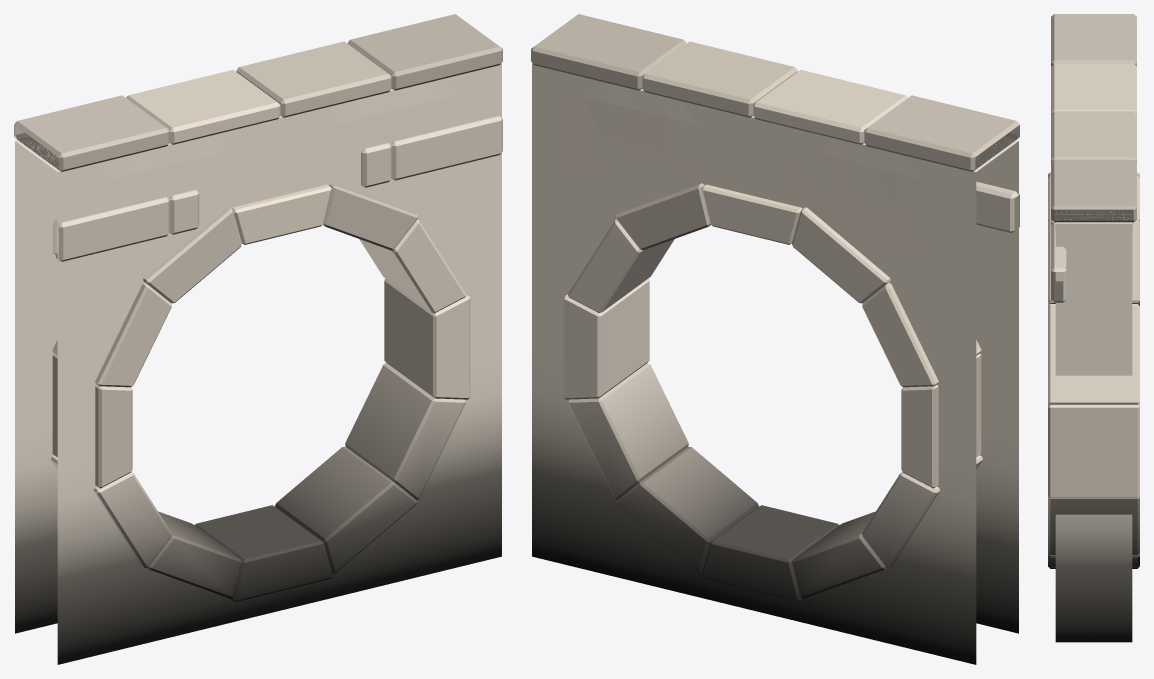
File: SM_VKI_Wall_Ancient_Vault_300_Full.fbx
3 renders of one model, left to right at view 1: azimuth 30°, elevation 25°; view 2: azimuth 150°, elevation 25°; view 3: azimuth 270°, elevation 25°, orthographic. The views are drawn at different scales.
Parts seen in each view (by area): view 1: SM_VKI_Wall_Ancient_Vault_300_Full.001; view 2: SM_VKI_Wall_Ancient_Vault_300_Full.001; view 3: SM_VKI_Wall_Ancient_Vault_300_Full.001.
Boxes of the visible parts, x1=… form: SM_VKI_Wall_Ancient_Vault_300_Full.001: x1=14, y1=14, x2=502, y2=664; SM_VKI_Wall_Ancient_Vault_300_Full.001: x1=531, y1=14, x2=1019, y2=664; SM_VKI_Wall_Ancient_Vault_300_Full.001: x1=1048, y1=14, x2=1139, y2=642.
Bounding box in the file's own units: 3 × 3.3 × 0.6.
